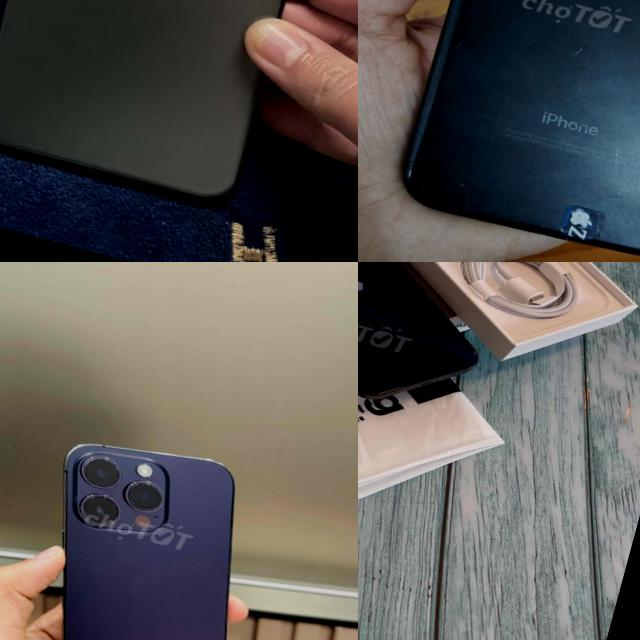gen_11: (0, 0, 281, 196)
gen_12_13: (358, 262, 511, 428)
gen_14: (0, 412, 290, 640)
gen_7_8: (377, 0, 640, 262)
scratch: (393, 147, 640, 262), (433, 0, 492, 62), (478, 68, 518, 149), (594, 136, 632, 182), (560, 33, 591, 61)
